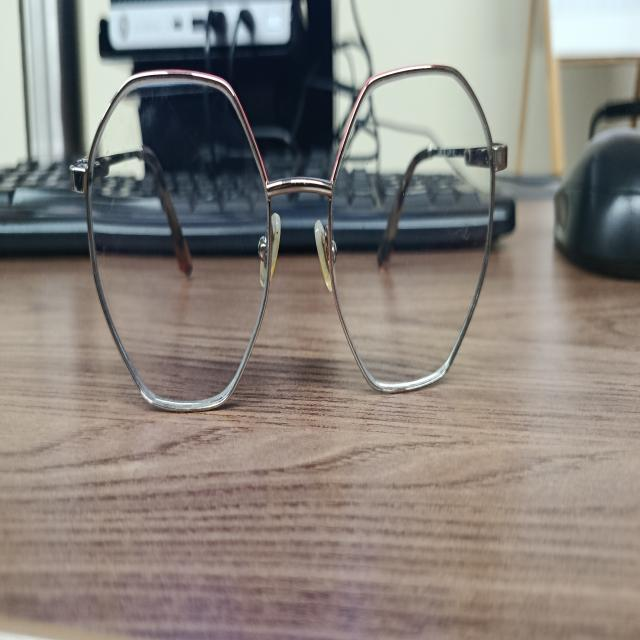sem_oculos: (69, 64, 508, 412), (83, 65, 497, 410)
